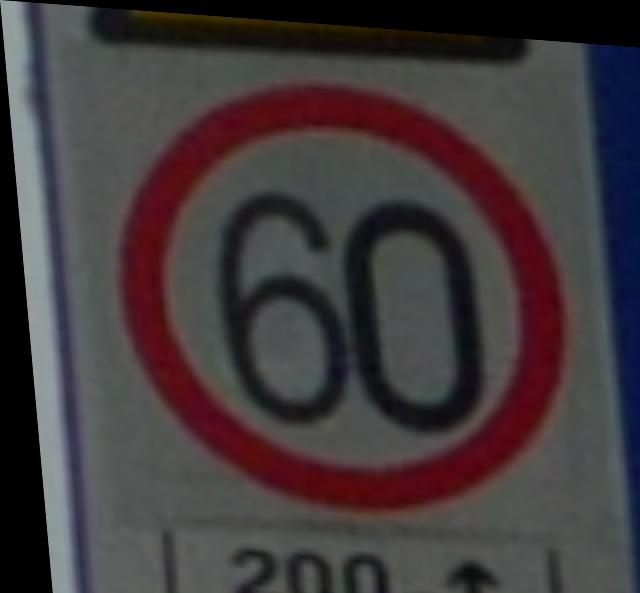limit60: (85, 58, 588, 527)
